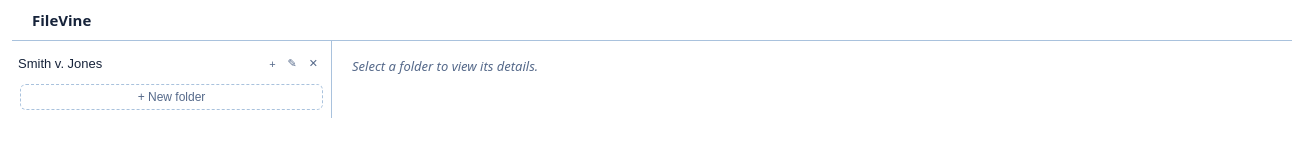
FileVineView › 047 AC3: creates a subfolder nested under an existing folder (a tree, not a flat list)
The width and height of the screenshot is (1292, 164).
Expected: the button "Smith v. Jones" is shown, [12,53,264,74]
Click the button named "New subfolder under Smith v. Jones". click: (272, 64)
box: [264,55,280,72]
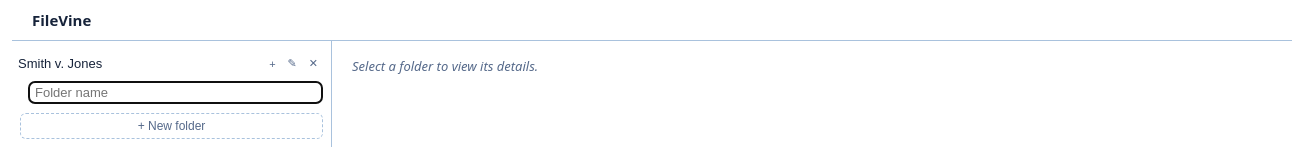
Type "Discovery" into the field named "New subfolder name". click: (176, 92)
box: [28,81,323,104]
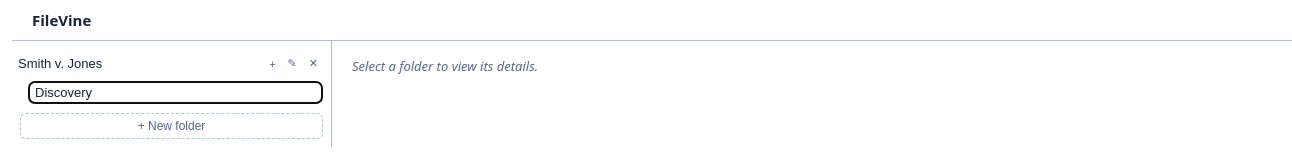
Press Enter
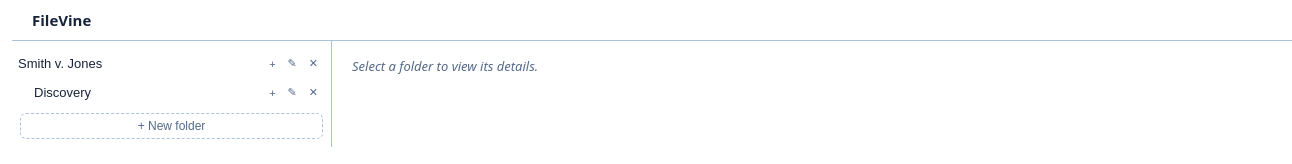
Expected: the button "Discovery" is shown, [28,82,264,103]
